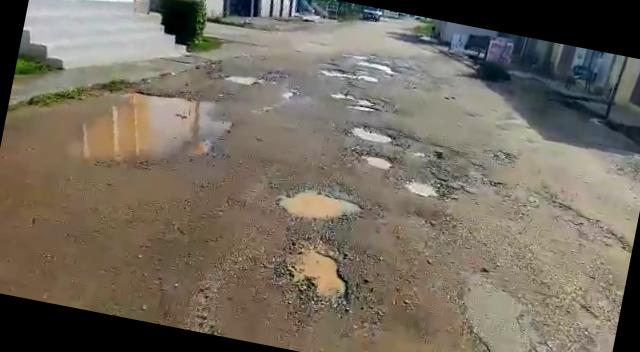pothole: (8, 63, 234, 188), (271, 234, 364, 310), (274, 179, 364, 230), (398, 174, 450, 200), (321, 63, 379, 84), (329, 92, 382, 114), (351, 122, 396, 146), (353, 148, 398, 172)
